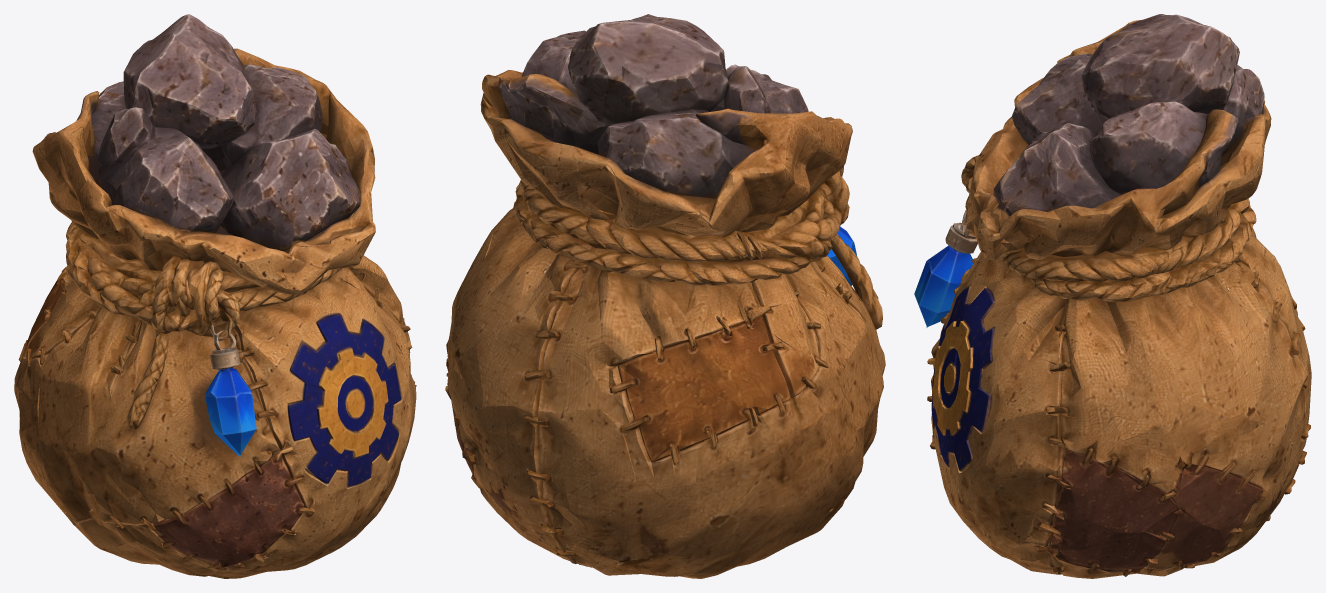
File: sack.glb
3 renders of one model, left to right at view 1: azimuth 30°, elevation 25°; view 2: azimuth 150°, elevation 25°; view 3: azimuth 270°, elevation 25°, orthographic. The views are drawn at different scales.
Parts seen in each view (by area): view 1: Mesh_0; view 2: Mesh_0; view 3: Mesh_0.
Part boxes in pixels (x1=…): Mesh_0: x1=14, y1=14, x2=416, y2=578; Mesh_0: x1=445, y1=14, x2=885, y2=578; Mesh_0: x1=914, y1=14, x2=1311, y2=578.
Bounding box in the file's own units: 1.46 × 1.9 × 1.33.
Materials: 1 (1 with a texture image).
